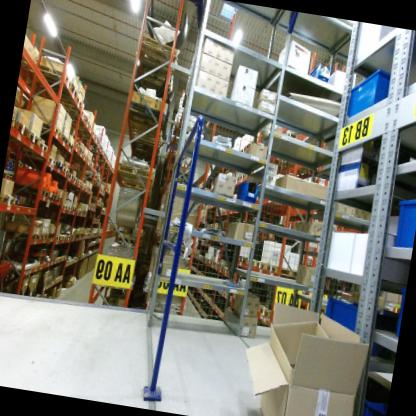pallet: (128, 57, 180, 99), (132, 34, 182, 73), (21, 60, 74, 96), (118, 97, 171, 130), (124, 117, 166, 147), (114, 159, 156, 187), (8, 177, 50, 202), (126, 135, 161, 165), (278, 155, 318, 181), (8, 133, 51, 157), (113, 177, 156, 199), (42, 77, 80, 101), (30, 116, 65, 140), (265, 260, 301, 282), (0, 225, 43, 243), (51, 91, 84, 110), (59, 102, 87, 121), (22, 151, 57, 166), (279, 127, 304, 147), (13, 116, 33, 138), (65, 112, 90, 128), (113, 231, 143, 244), (115, 224, 145, 236), (26, 125, 42, 146), (256, 304, 277, 319), (72, 125, 96, 138), (0, 190, 18, 207), (165, 147, 183, 164), (71, 120, 94, 133), (254, 256, 268, 274), (10, 157, 29, 170), (78, 133, 99, 143), (82, 172, 101, 182), (244, 255, 257, 269), (238, 143, 251, 157), (60, 133, 71, 147), (46, 229, 56, 244), (66, 167, 76, 182), (38, 231, 49, 244), (236, 252, 247, 265), (238, 170, 247, 184), (51, 232, 61, 244), (57, 230, 67, 242), (72, 139, 82, 151), (77, 142, 85, 156), (47, 191, 57, 202), (224, 204, 235, 214), (3, 171, 13, 181), (59, 202, 68, 213), (61, 163, 70, 174), (55, 194, 64, 204), (55, 160, 64, 170), (67, 139, 74, 151), (232, 173, 239, 185), (224, 265, 232, 275), (11, 115, 17, 128), (65, 232, 72, 243), (219, 205, 226, 216), (85, 154, 92, 165), (77, 175, 83, 187), (72, 175, 80, 184), (66, 204, 73, 214), (218, 262, 225, 272), (77, 230, 83, 241), (79, 206, 85, 217), (209, 257, 216, 266), (89, 160, 96, 169), (82, 207, 88, 217), (75, 206, 81, 216), (71, 205, 77, 215), (203, 239, 211, 246), (80, 181, 87, 189), (214, 260, 220, 269), (215, 206, 221, 215), (202, 214, 208, 223), (74, 231, 79, 241), (197, 253, 203, 261), (199, 238, 205, 246), (198, 214, 204, 222), (70, 232, 75, 241), (87, 185, 92, 194), (84, 183, 89, 192), (205, 258, 211, 265), (208, 222, 214, 229), (200, 255, 205, 263), (83, 152, 88, 160), (85, 202, 91, 208), (202, 222, 207, 229), (89, 203, 94, 210), (81, 232, 86, 239), (87, 231, 92, 238), (83, 231, 88, 237), (206, 221, 209, 229), (98, 141, 101, 148), (204, 256, 207, 262), (93, 205, 96, 210)
pallet_truck: (39, 265, 52, 297), (17, 273, 32, 295), (26, 270, 38, 295), (32, 268, 43, 295)
